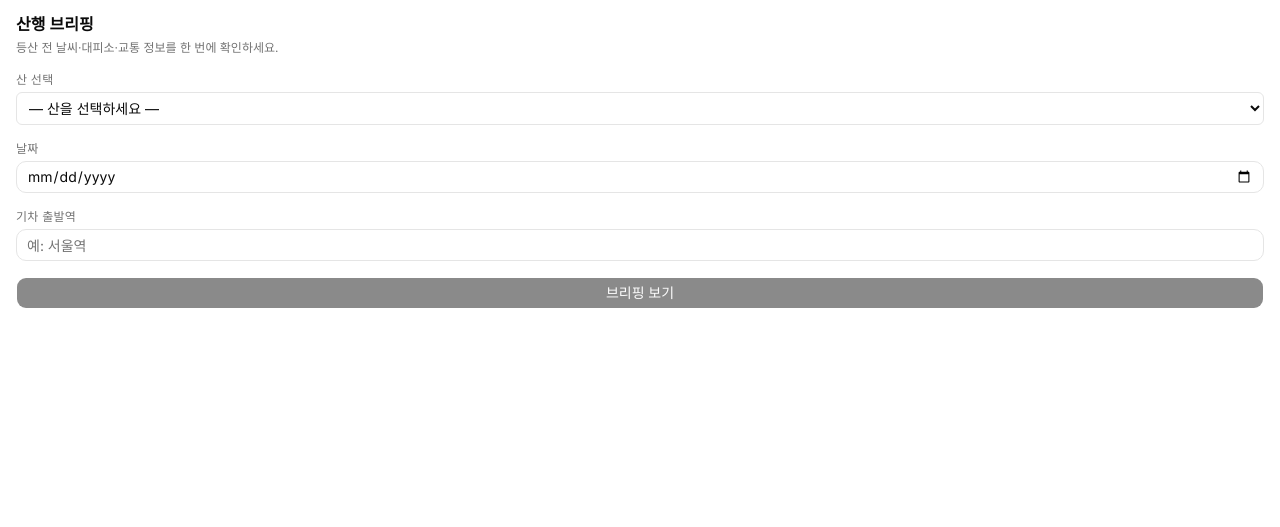
SearchForm › 역순 전환 › 역순 버튼 클릭 시 출발지·도착지가 바뀐다
Select "지리산" in the dropdown with test id "mountain-select": (640, 108) [16, 92, 1264, 125]
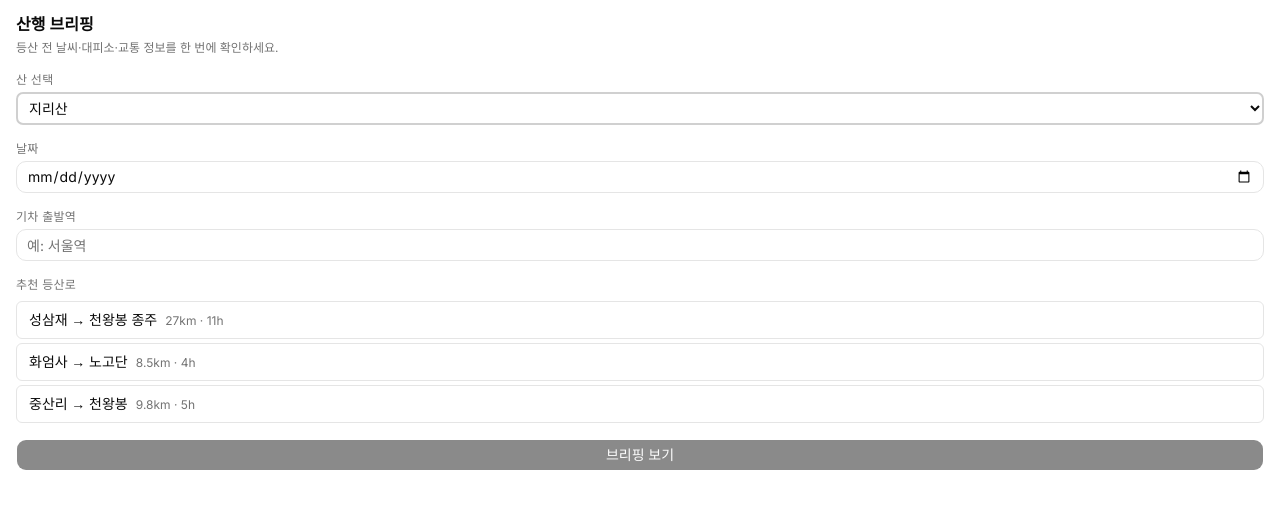
Click the text "성삼재 → 천왕봉 종주": (93, 320) [29, 311, 157, 328]
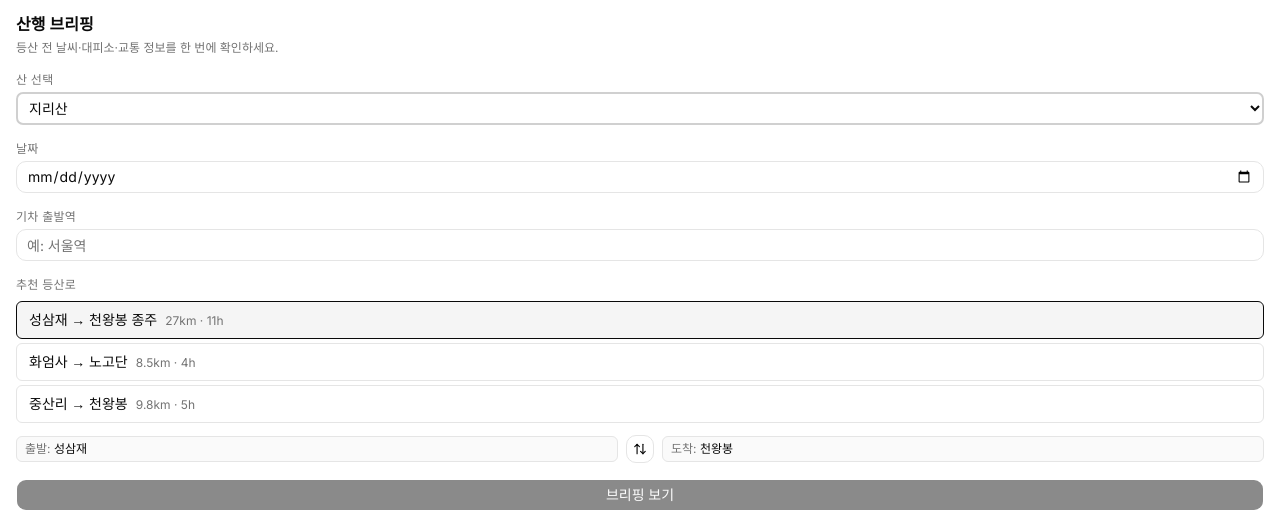
Click the button with test id "reverse-button": (640, 449) [626, 435, 654, 463]
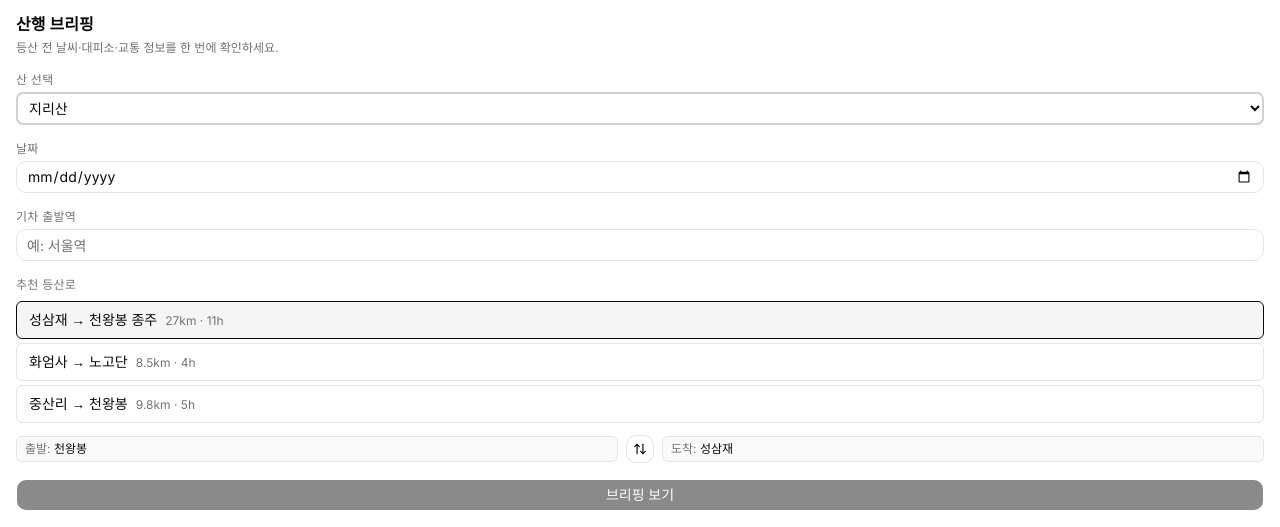
Now the text with test id "start-point" reads "천왕봉", box [54, 441, 87, 456]
Now the text with test id "end-point" reads "성삼재", box [700, 441, 733, 456]
